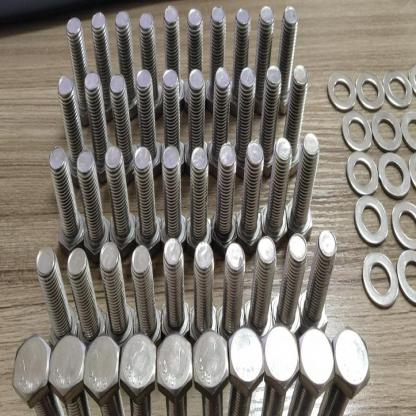FOD: (320, 325, 371, 415), (298, 229, 338, 333), (48, 144, 85, 255), (76, 149, 111, 259), (286, 134, 321, 242), (360, 250, 399, 310), (353, 192, 389, 244), (340, 111, 372, 152), (326, 70, 356, 111), (383, 68, 412, 108)
